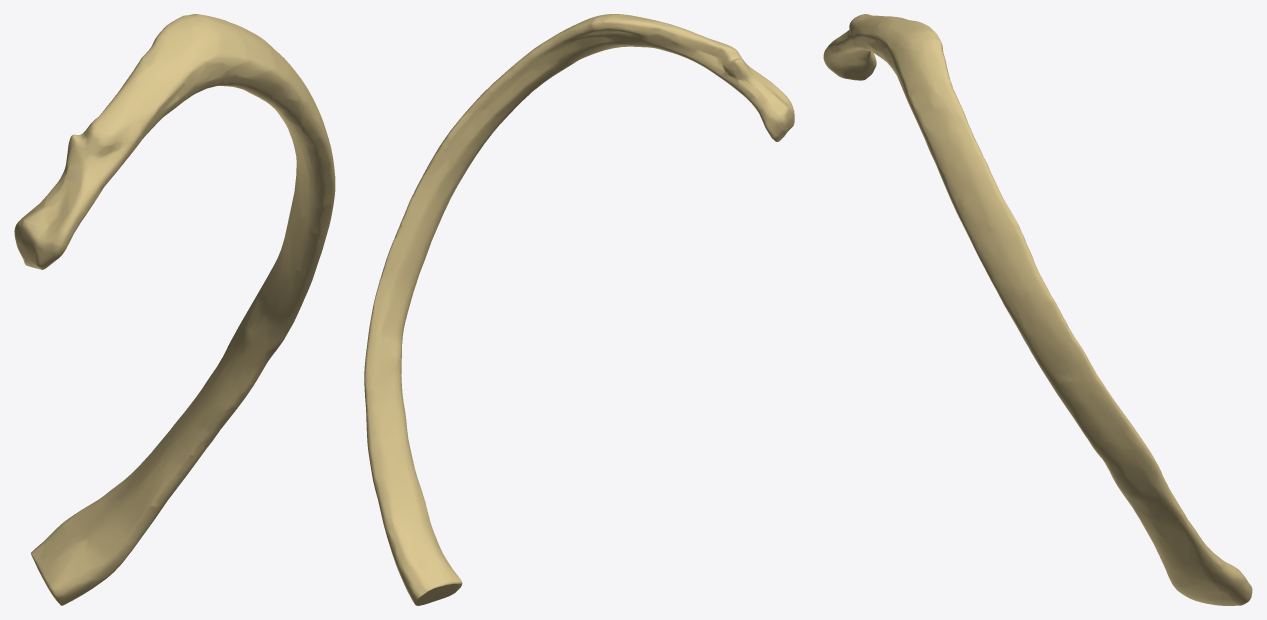
3 renders of one model, left to right at view 1: azimuth 30°, elevation 25°; view 2: azimuth 150°, elevation 25°; view 3: azimuth 270°, elevation 25°, orthographic. The views are drawn at different scales.
Visible parts, largest first — view 1: 左侧第六肋; view 2: 左侧第六肋; view 3: 左侧第六肋.
Boxes of the visible parts, bbox=[...] form: 左侧第六肋: bbox=[14, 14, 335, 605]; 左侧第六肋: bbox=[364, 14, 794, 605]; 左侧第六肋: bbox=[823, 14, 1252, 605].
Bounding box in the file's own units: 0.1813 × 0.2891 × 0.2042.
